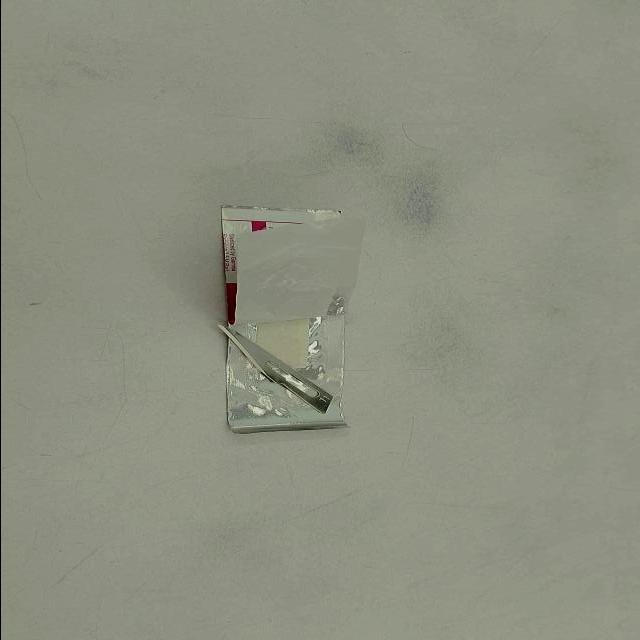General: (215, 202, 367, 435)
Sharps: (216, 321, 334, 415)
